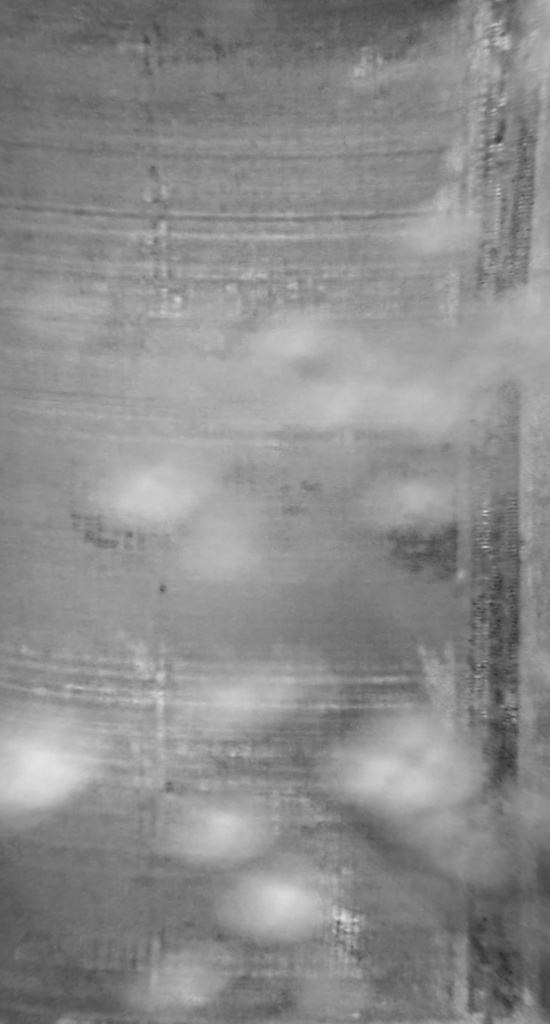splice: (451, 1, 548, 1022)
